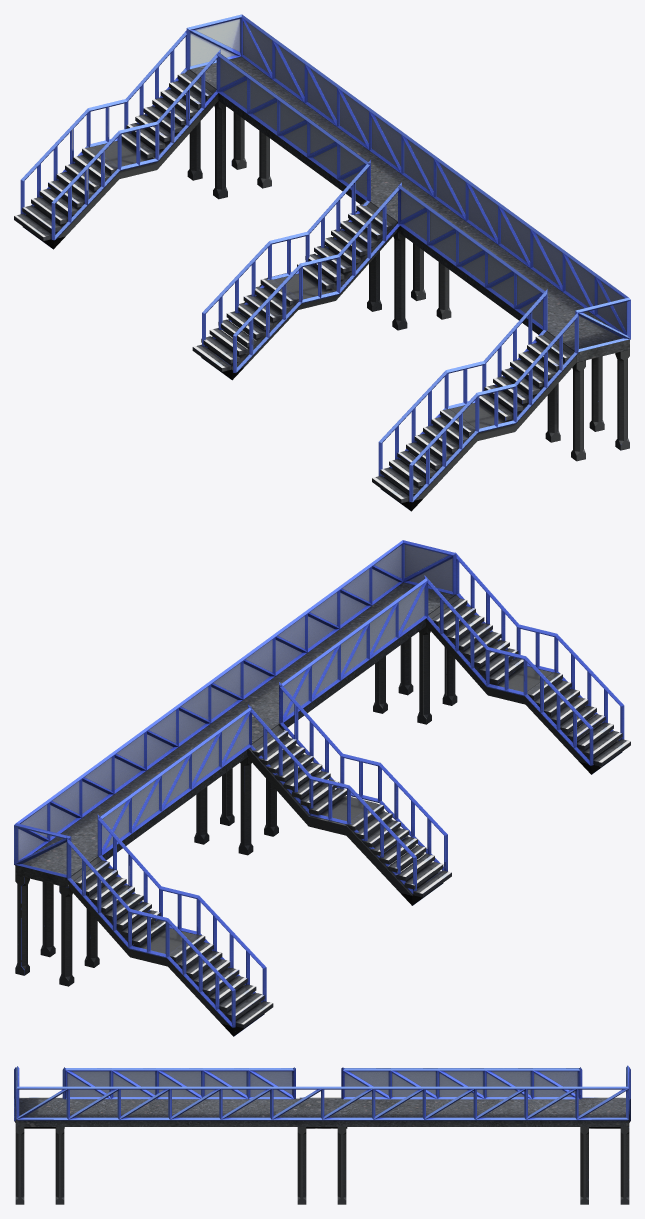
Rendered from station_bridge.gltf.
3 views of the same model, one above another, from view 1: azimuth 30°, elevation 25°; view 2: azimuth 150°, elevation 25°; view 3: azimuth 270°, elevation 25° (orthographic). The views are drawn at different scales.
Parts seen in each view (by area): view 1: Cube.026; view 2: Cube.026; view 3: Cube.026.
Part boxes in pixels (bbox=[...]): Cube.026: bbox=[14, 14, 630, 511]; Cube.026: bbox=[14, 540, 630, 1036]; Cube.026: bbox=[14, 1065, 630, 1204].
Bounding box in the file's own units: 2.44 × 1.62 × 7.18.
